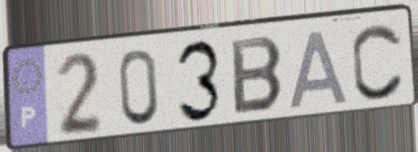0: (117, 47, 161, 129)
2: (54, 50, 106, 141)
3: (170, 37, 226, 126)
A: (287, 27, 353, 112)
B: (228, 34, 286, 117)
C: (349, 21, 407, 103)
